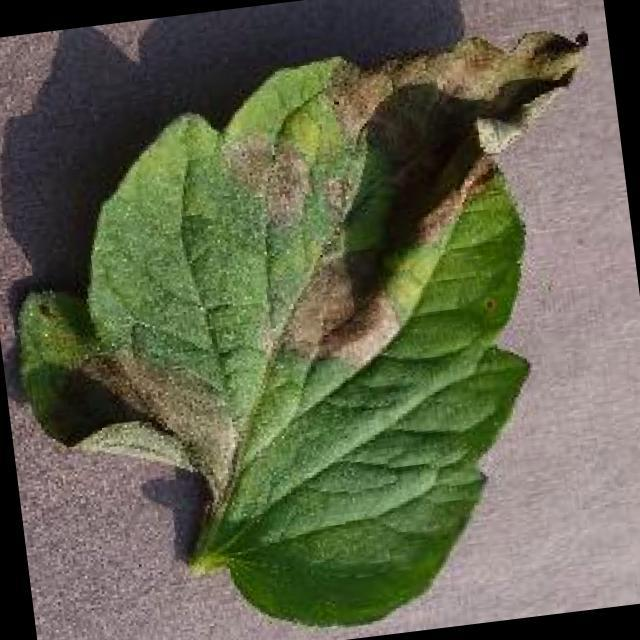Tomato late blight leaf: (0, 16, 640, 640)
